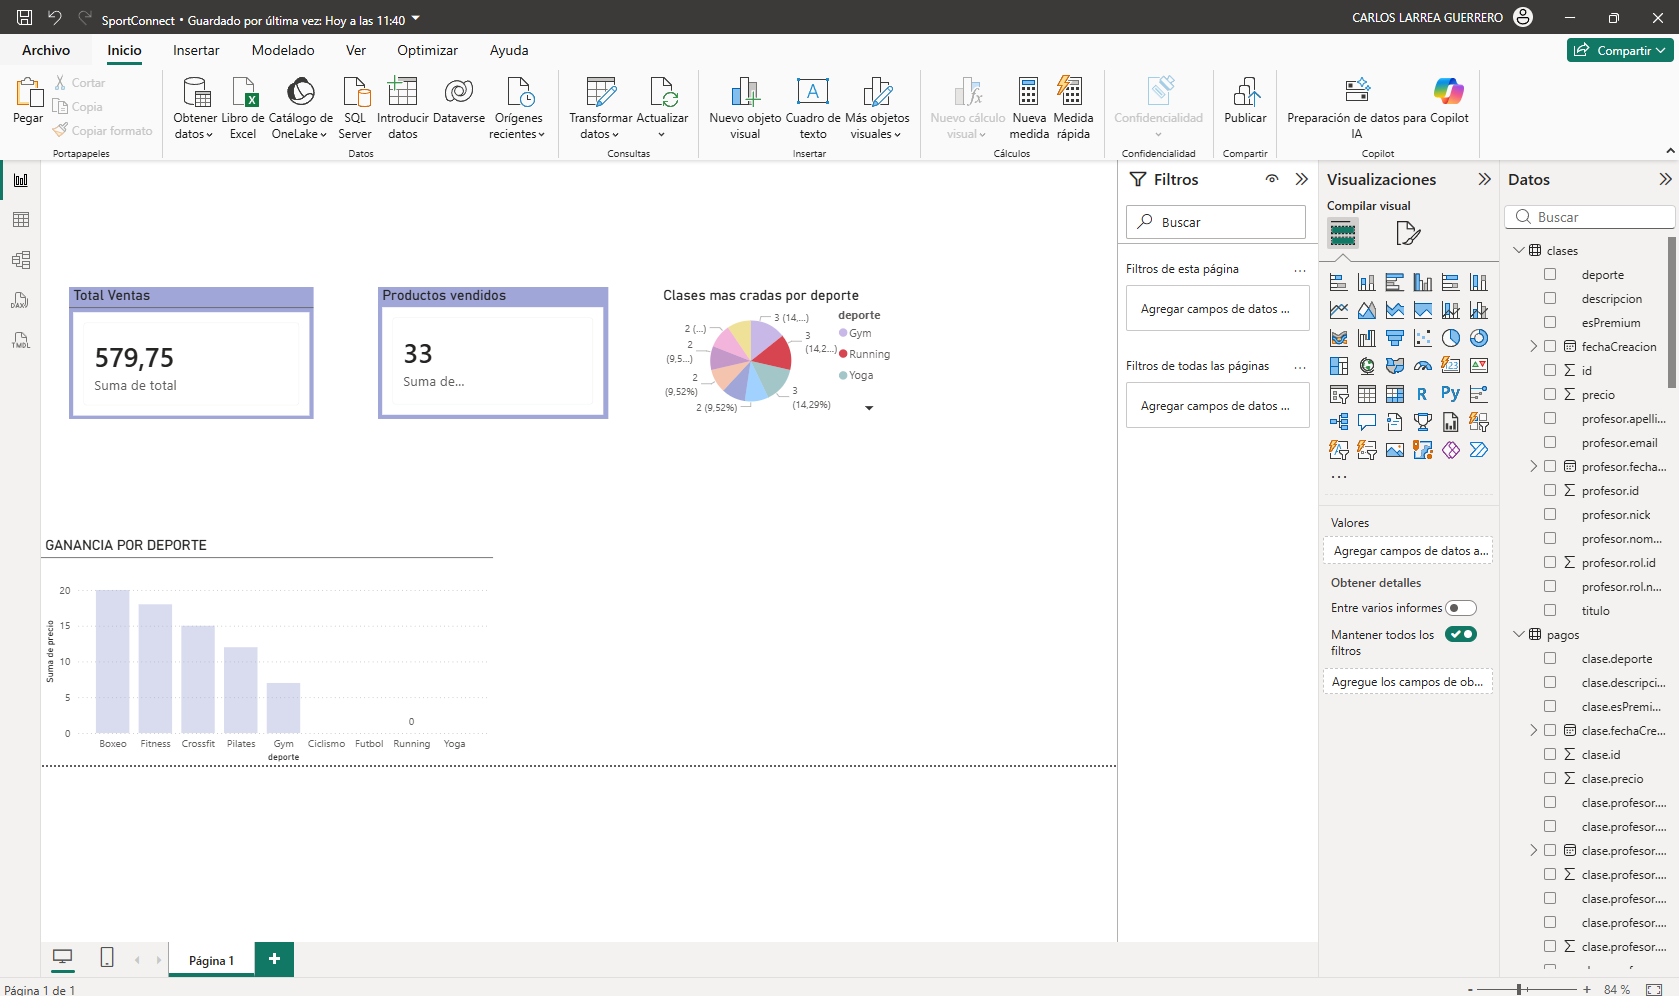

This screenshot's page, from the dashboard's own definition file:
{"tool":"powerbi","page":{"name":"Página 1","canvas":[1280,720],"ordinal":0},"visuals":[{"type":"columnChart","title":"GANANCIA POR DEPORTE","fields":{"Category":["clases.deporte"],"Y":["Sum(clases.precio)"]},"box":[0,448.5,537.7,271.2],"z":0},{"type":"cardVisual","title":"Total Ventas","fields":{"Data":["Sum(pedidos.total)"]},"box":[33.3,151.1,291.4,157],"z":1000},{"type":"cardVisual","title":"Productos vendidos","fields":{"Data":["Sum(pedidos.producto.vendedor.rol.id)"]},"box":[400.9,151.1,273.6,157],"z":2000},{"type":"pieChart","title":"Clases mas creadas por deporte","fields":{"Category":["clases.deporte"],"Y":["Sum(clases.profesor.rol.id)"]},"box":[735.2,151.1,544.8,568.6],"z":3000}]}

Visuals, with their boxes on the page's 1280x720 design canvas (x1, y1, x2, y2). These are canvas units, not pixel positions in the 1679x996 screenshot, which may show the page scaled, cropped or inside an application window:
"GANANCIA POR DEPORTE" columnChart: 0, 448, 538, 720
"Total Ventas" cardVisual: 33, 151, 325, 308
"Productos vendidos" cardVisual: 401, 151, 674, 308
"Clases mas creadas por deporte" pieChart: 735, 151, 1280, 720
